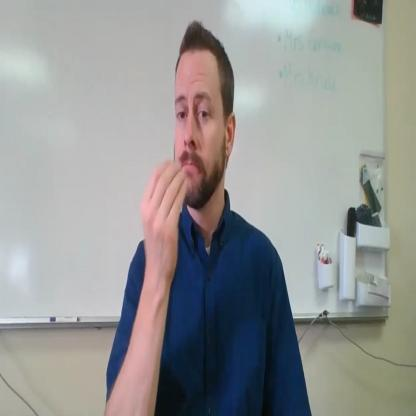Food: (137, 16, 254, 296)
